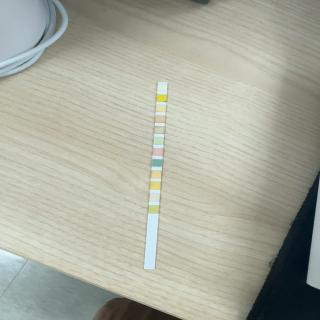mark: (153, 148, 163, 156), (152, 159, 162, 167), (150, 182, 160, 190), (150, 194, 160, 202), (155, 116, 166, 123), (155, 126, 164, 134), (157, 95, 167, 102), (156, 105, 166, 112), (154, 137, 164, 144), (151, 171, 161, 178), (149, 206, 159, 213), (158, 84, 167, 91)
